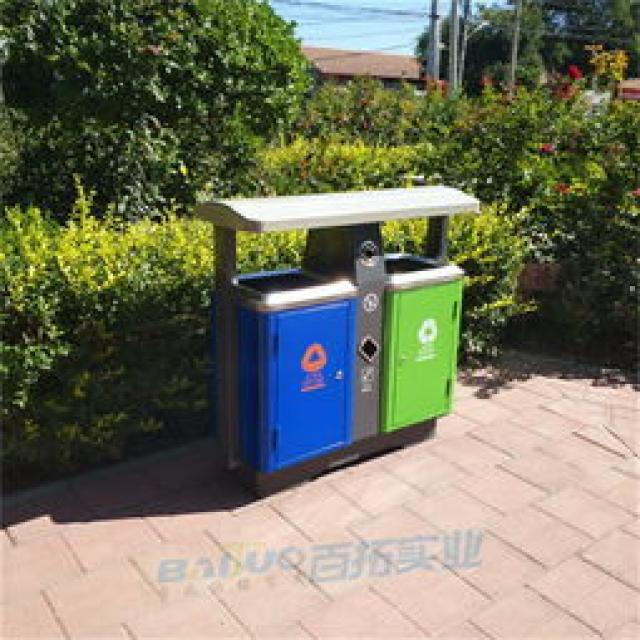garbage_bin: (196, 183, 479, 500)
